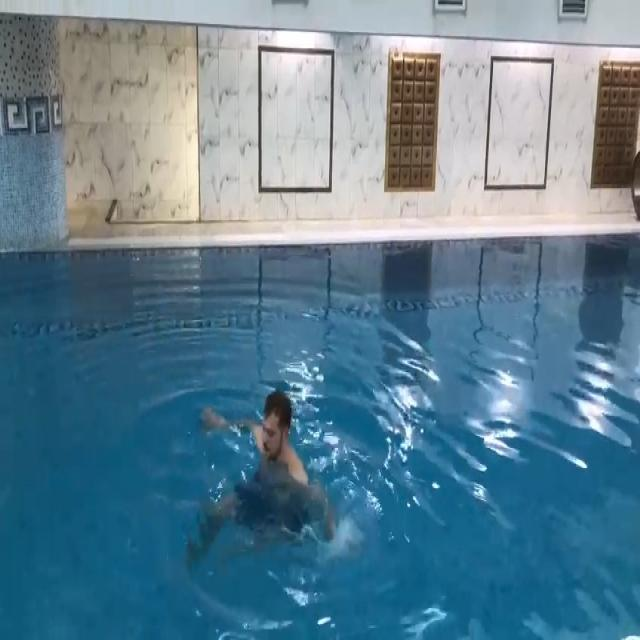Drowning: (190, 390, 338, 569)
